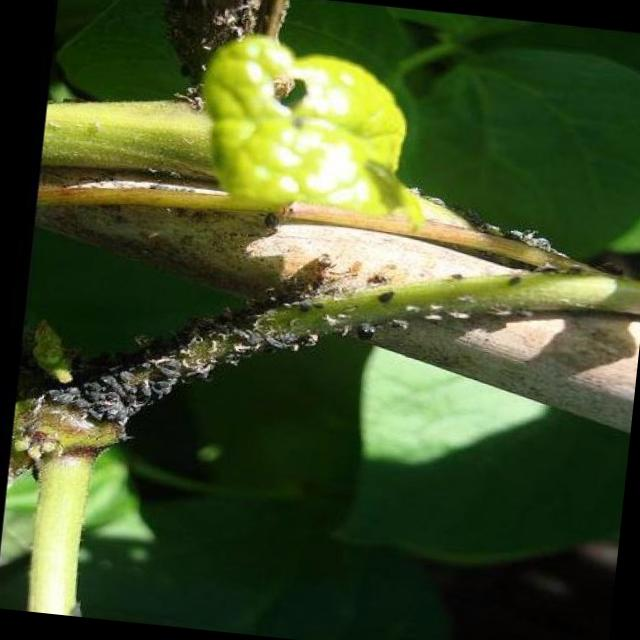aphid: (53, 289, 363, 421), (348, 258, 550, 341), (412, 183, 590, 270), (150, 0, 296, 45), (169, 20, 201, 79)
